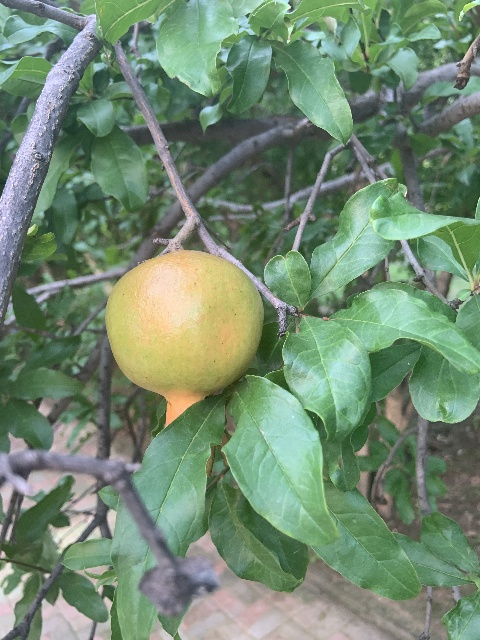mid-growth: (104, 249, 263, 477)
